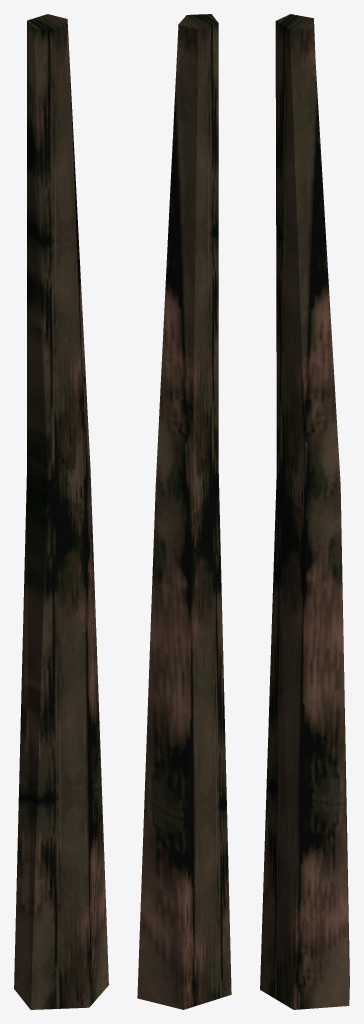
The picture shows the model from 3 angles, left to right: view 1: azimuth 30°, elevation 25°; view 2: azimuth 210°, elevation 25°; view 3: azimuth 330°, elevation 25°; orthographic projection.
Parts seen in each view (by area): view 1: BT_2; view 2: BT_2; view 3: BT_2.
Boxes of the visible parts, <box> form: BT_2: <box>14,14,108,1009</box>; BT_2: <box>137,14,231,1009</box>; BT_2: <box>260,14,349,1009</box>.
Size of the model in its own units: 1.95 by 21.56 by 1.68.
Materials: 1 (1 with a texture image).
